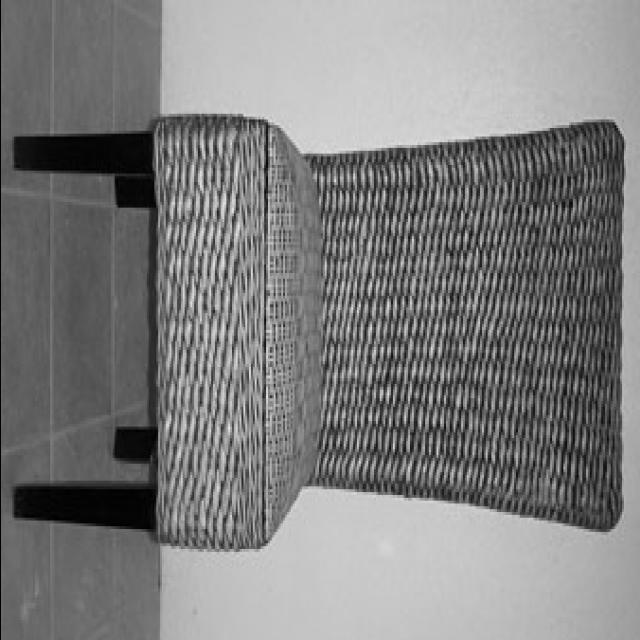chair: (11, 112, 625, 556)
